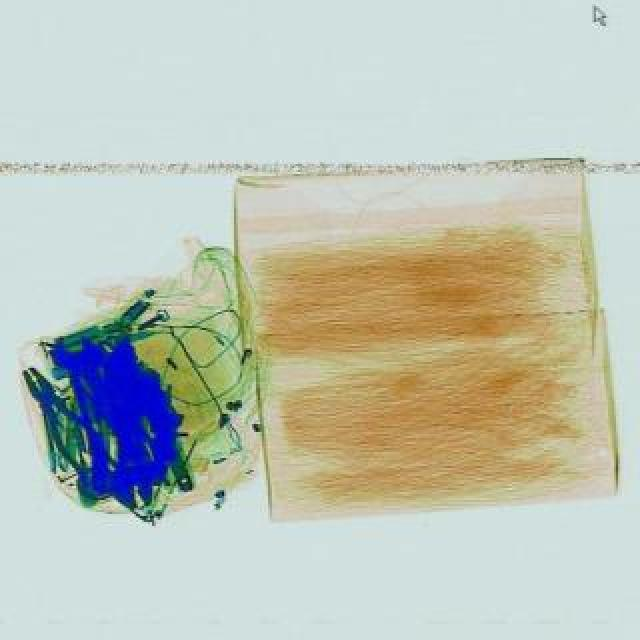scissors: (42, 322, 160, 464)
wrench: (6, 356, 126, 492)
